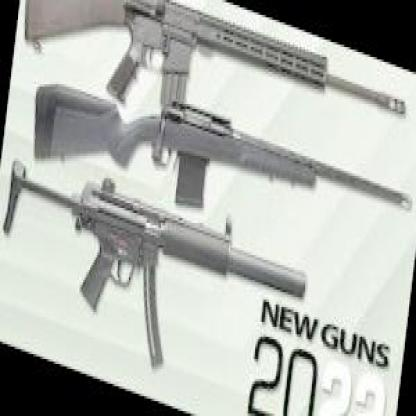rifle: (17, 0, 410, 183), (0, 146, 261, 399)
